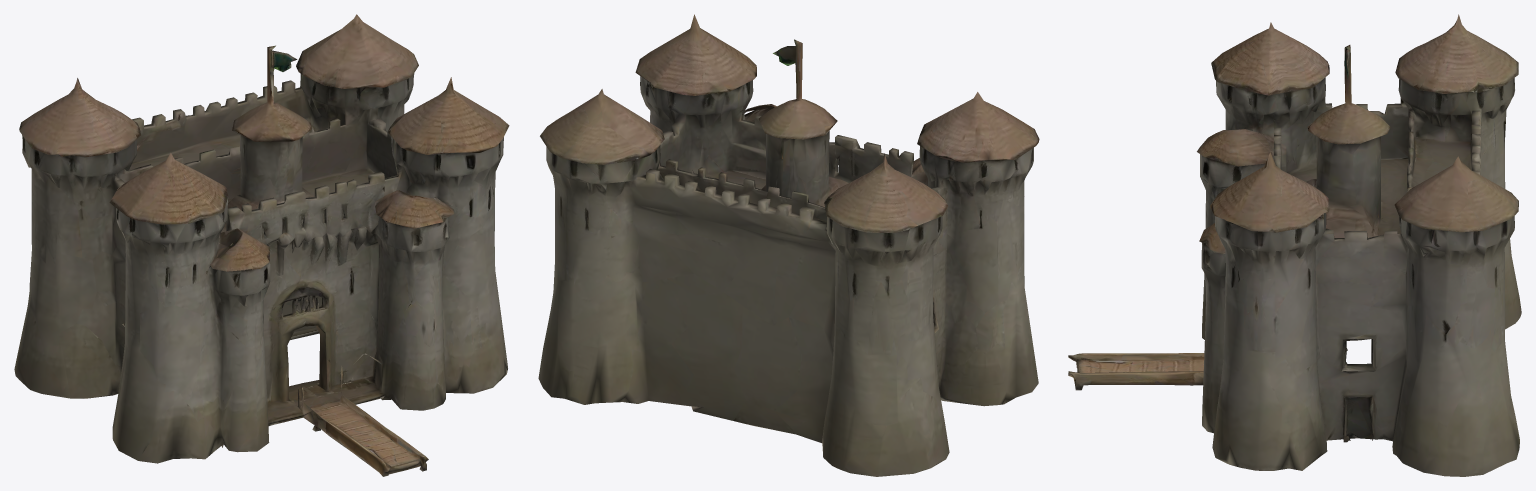
Rendered from poi_castle.glb.
3 views of the same model, side by side, from view 1: azimuth 30°, elevation 25°; view 2: azimuth 150°, elevation 25°; view 3: azimuth 270°, elevation 25° (orthographic).
Visible parts, largest first — view 1: Castle; view 2: Castle; view 3: Castle.
Boxes of the visible parts, x1,y1,x2,y2 form: Castle: (14,14,509,476); Castle: (538,14,1039,476); Castle: (1068,14,1521,476).
Size of the model in its own units: 1.84 by 1.5 by 1.84.
Materials: 1 (1 with a texture image).
